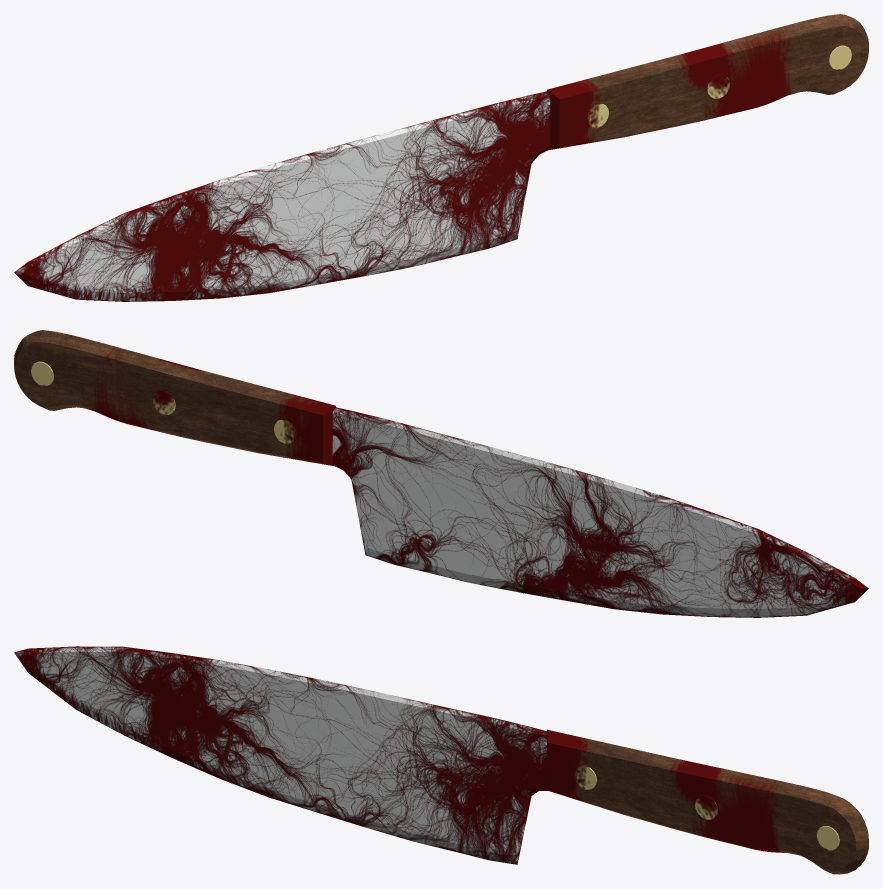
Rendered from kitchen_knife.glb.
3 renders of one model, top to bottom at view 1: azimuth 30°, elevation 25°; view 2: azimuth 150°, elevation 25°; view 3: azimuth 330°, elevation 25°, orthographic.
Visible parts, largest first — view 1: Plane.001, Plane, Plane.002; view 2: Plane.001, Plane, Plane.002; view 3: Plane.001, Plane, Plane.002.
Boxes of the visible parts, x1,y1,x2,y2 form: Plane.001: (14,91,550,301); Plane: (547,14,868,150); Plane.002: (586,45,851,127); Plane.001: (332,407,868,617); Plane: (14,330,335,466); Plane.002: (31,361,296,443); Plane.001: (14,646,547,864); Plane: (547,729,868,874); Plane.002: (574,765,839,850).
Bounding box in the file's own units: 411 × 69.38 × 10.56.
3 materials, 3 textured.
